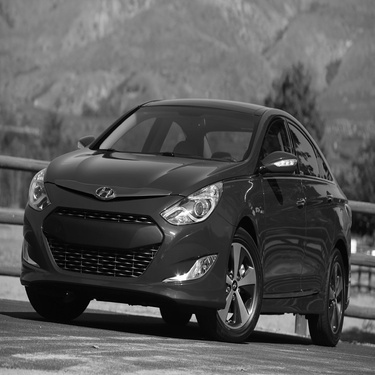car: (8, 94, 354, 347)
